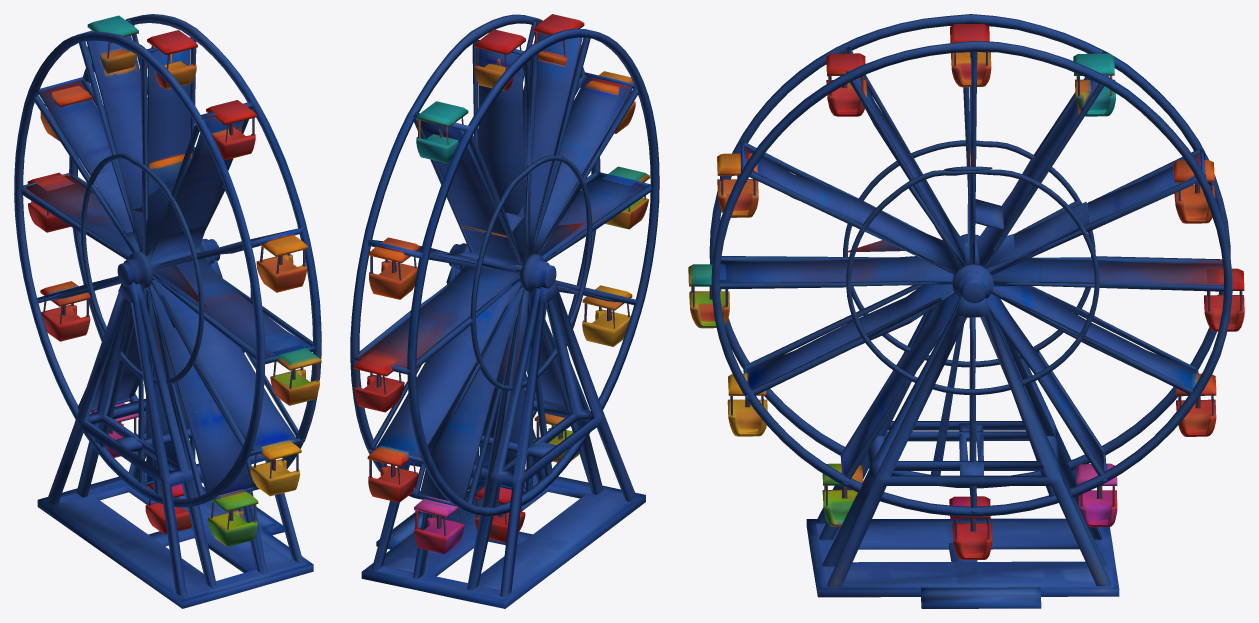
The model's file is tripo_convert_4bb07706-a1f8-4a2f-be95-c5f0a1f86d38.glb.
3 renders of one model, left to right at view 1: azimuth 30°, elevation 25°; view 2: azimuth 150°, elevation 25°; view 3: azimuth 270°, elevation 25°, orthographic. The views are drawn at different scales.
Visible parts, largest first — view 1: tripo_node_4bb07706-a1f8-4a2f-be95-c5f0a1f86d38; view 2: tripo_node_4bb07706-a1f8-4a2f-be95-c5f0a1f86d38; view 3: tripo_node_4bb07706-a1f8-4a2f-be95-c5f0a1f86d38.
Boxes of the visible parts, x1,y1,x2,y2 form: tripo_node_4bb07706-a1f8-4a2f-be95-c5f0a1f86d38: [14, 14, 321, 608]; tripo_node_4bb07706-a1f8-4a2f-be95-c5f0a1f86d38: [350, 14, 659, 608]; tripo_node_4bb07706-a1f8-4a2f-be95-c5f0a1f86d38: [688, 14, 1244, 608].
Bounding box in the file's own units: 0.3345 × 0.9995 × 0.9458.
Materials: 1 (1 with a texture image).
